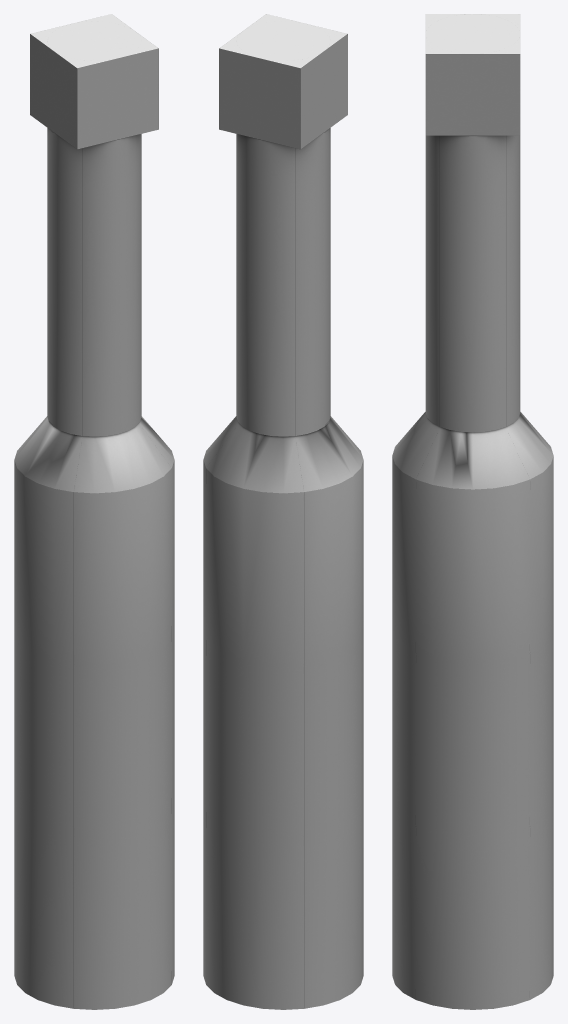
The model's file is Tall Dish (post).glb.
3 views of the same model, side by side, from view 1: azimuth 30°, elevation 25°; view 2: azimuth 150°, elevation 25°; view 3: azimuth 270°, elevation 25° (orthographic).
Parts seen in each view (by area): view 1: tall_dish_; view 2: tall_dish_; view 3: tall_dish_.
Part boxes in pixels (left/top/right/bottom): tall_dish_: left=14, top=14, right=174, bottom=1009; tall_dish_: left=203, top=14, right=363, bottom=1009; tall_dish_: left=392, top=14, right=553, bottom=1009.
Bounding box in the file's own units: 170 × 1095 × 170.
Materials: 2 (1 with a texture image).
